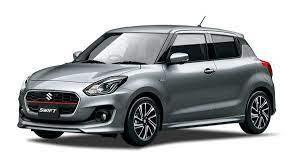Hatchback: (17, 21, 279, 146)
